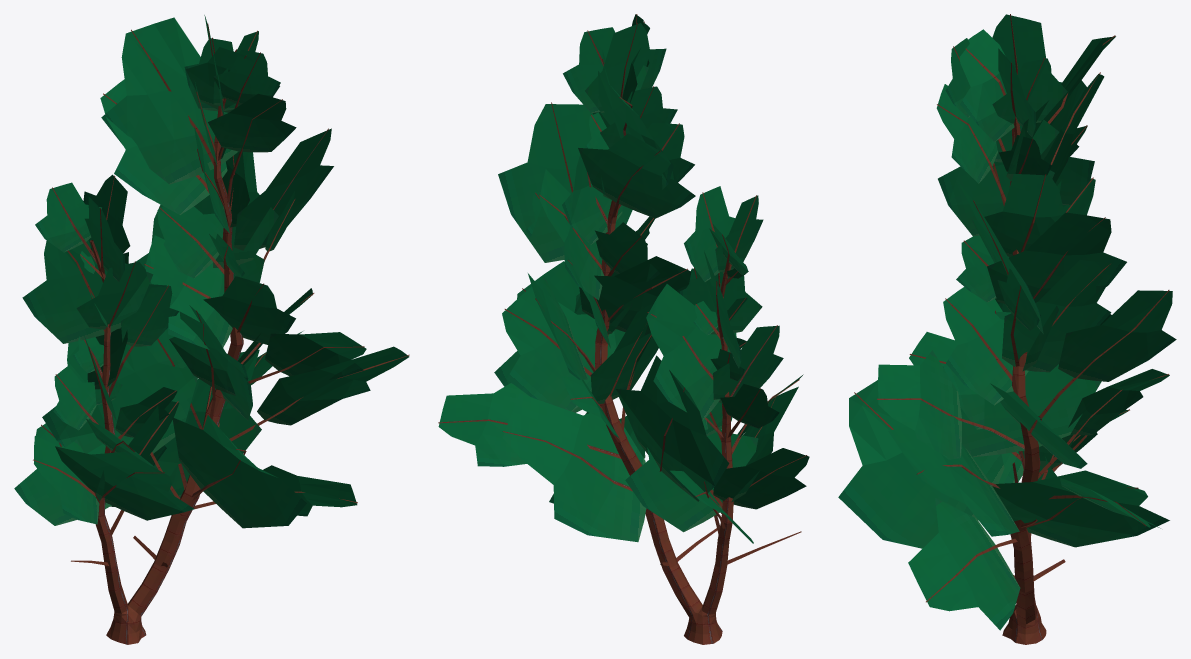
Rendered from Birch_Tree_02.fbx.
3 views of the same model, side by side, from view 1: azimuth 30°, elevation 25°; view 2: azimuth 150°, elevation 25°; view 3: azimuth 270°, elevation 25° (orthographic). The views are drawn at different scales.
Parts seen in each view (by area): view 1: SM_Tree_Birch_02.mo; view 2: SM_Tree_Birch_02.mo; view 3: SM_Tree_Birch_02.mo.
Boxes of the visible parts, left/top/right/bottom form: SM_Tree_Birch_02.mo: left=14, top=15, right=409, bottom=644; SM_Tree_Birch_02.mo: left=438, top=14, right=809, bottom=644; SM_Tree_Birch_02.mo: left=838, top=14, right=1176, bottom=644.
Size of the model in its own units: 738 by 1256 by 583.
